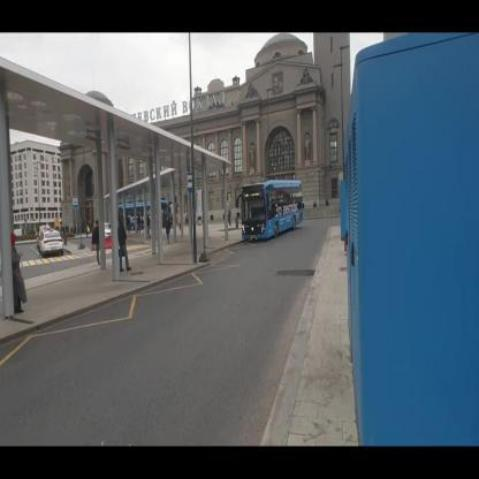bus: (241, 179, 305, 239)
